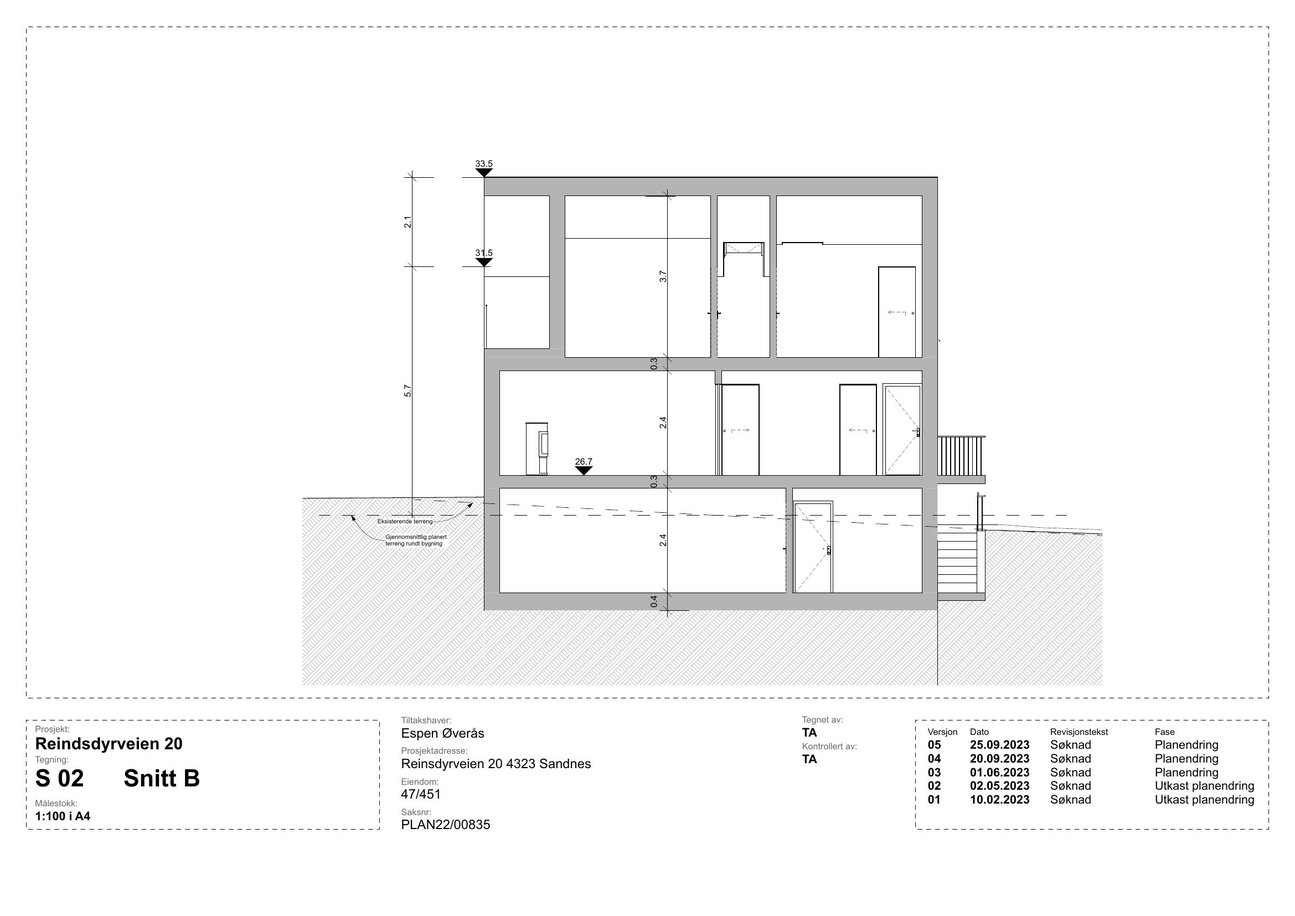snitt: (480, 173, 989, 614)
